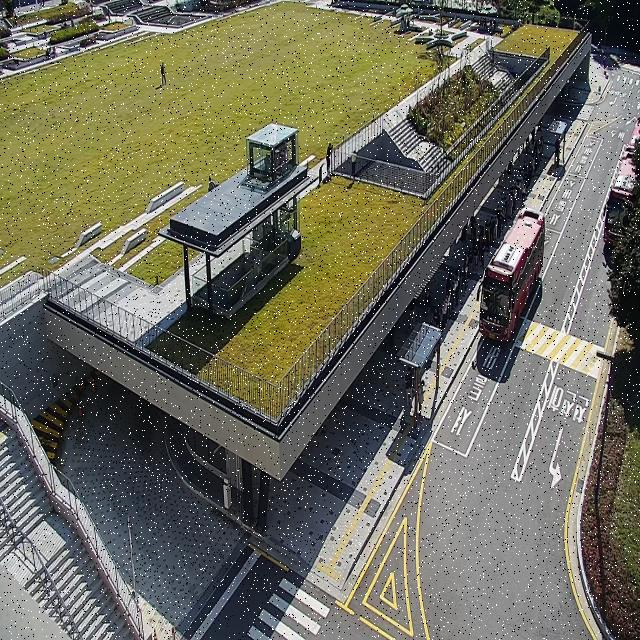queue: (416, 132, 546, 428)
